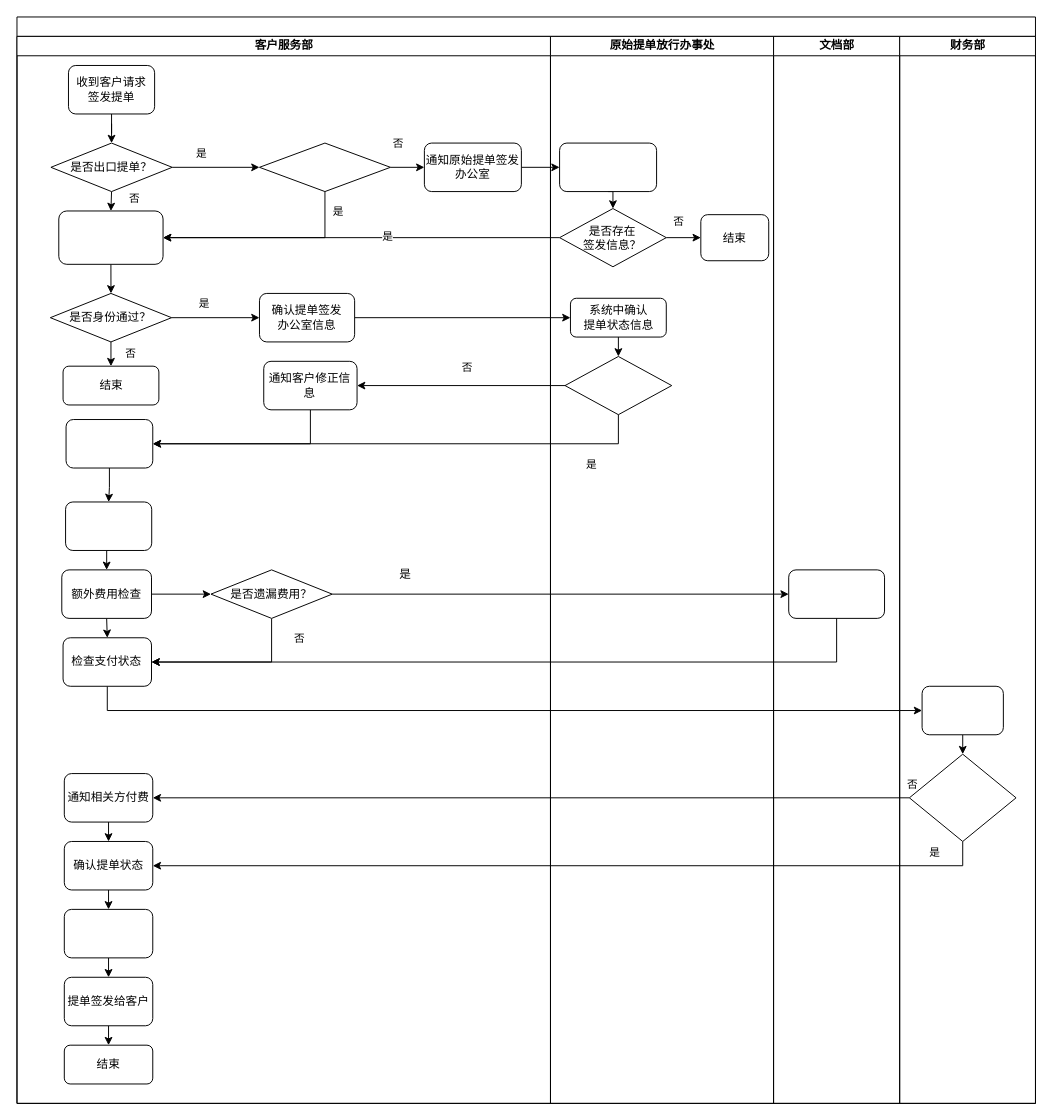
Image size: 1052x1120. Some labels were removed from this diagram. Each missing label, with the centre of its shape:
"信息是否符合？" goes at [618,385].
"必要文件检查" goes at [108,525].
"是否已全部支付" goes at [962,797].
"是否查到客户 签发信息？" goes at [324,167].
"最终确认 重要信息" goes at [108,933].
"检查客户签发信息" goes at [608,167].
"检查客户身份信息" goes at [110,237].
"检查提单相关 船只状态" goes at [109,443].
"添加额外费用到ERP系统" goes at [836,593].
"费用检查" goes at [962,710].
